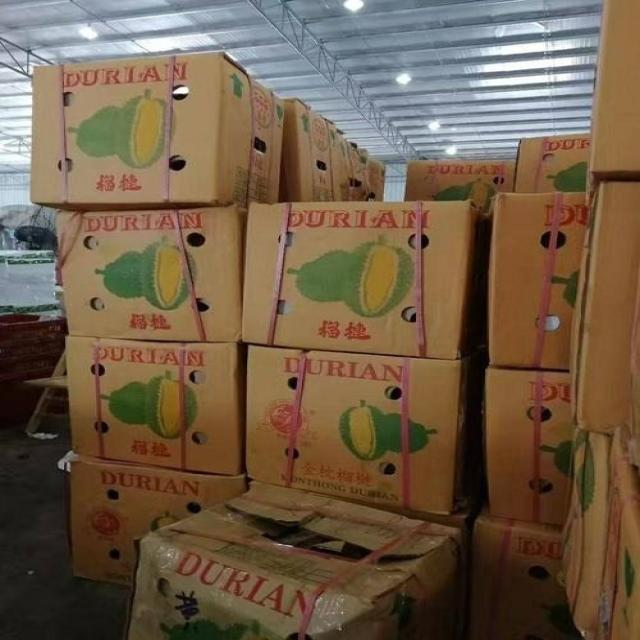box: (128, 485, 462, 638), (243, 345, 484, 515), (30, 51, 282, 213), (242, 201, 491, 359), (57, 207, 250, 341), (64, 335, 243, 474), (65, 454, 246, 584), (488, 192, 586, 373), (571, 181, 639, 435), (468, 511, 585, 639), (488, 367, 571, 525), (556, 430, 611, 639), (599, 427, 639, 637), (591, 0, 639, 172), (281, 97, 351, 202), (398, 161, 517, 218), (516, 133, 594, 192), (350, 145, 388, 202)
